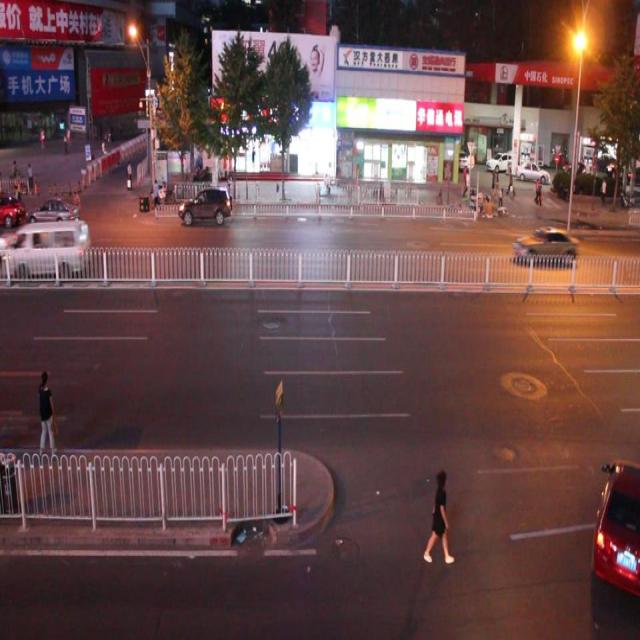car: (589, 458, 640, 600), (510, 225, 577, 267), (177, 185, 232, 227), (26, 196, 81, 237)
truck: (9, 219, 90, 281)
